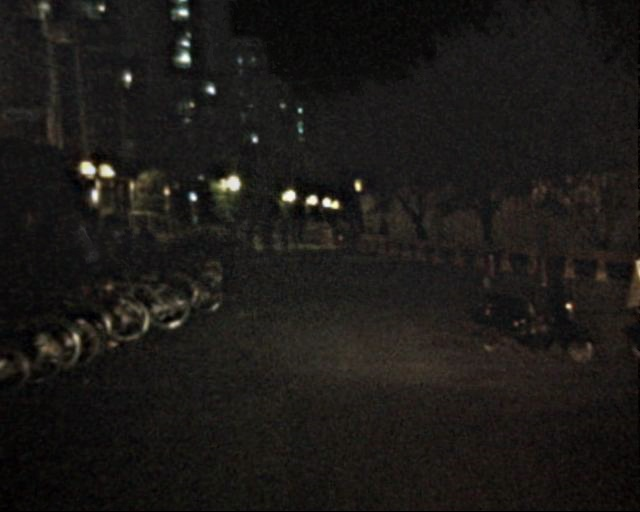person: (76, 221, 98, 274), (120, 221, 139, 267), (140, 220, 158, 265), (255, 215, 273, 259), (271, 212, 287, 252), (375, 216, 391, 254), (240, 215, 254, 249), (225, 216, 239, 249), (289, 217, 303, 245)
